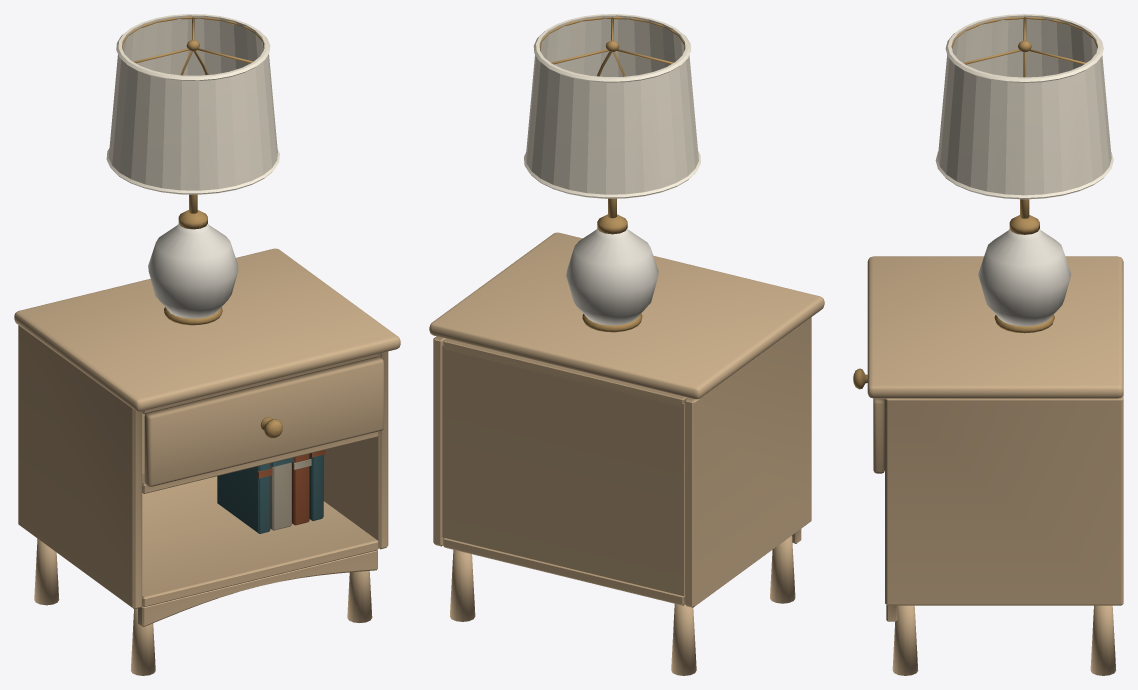
Rendered from nightstandLamp.glb.
The picture shows the model from 3 angles, left to right: view 1: azimuth 30°, elevation 25°; view 2: azimuth 150°, elevation 25°; view 3: azimuth 270°, elevation 25°; orthographic projection. The views are drawn at different scales.
Parts seen in each view (by area): view 1: nightstandLamp; view 2: nightstandLamp; view 3: nightstandLamp.
Part boxes in pixels (left/top/right/bottom): nightstandLamp: left=14, top=14, right=400, bottom=675; nightstandLamp: left=429, top=14, right=824, bottom=675; nightstandLamp: left=853, top=14, right=1123, bottom=675.
Bounding box in the file's own units: 0.54 × 1.09 × 0.4646.
